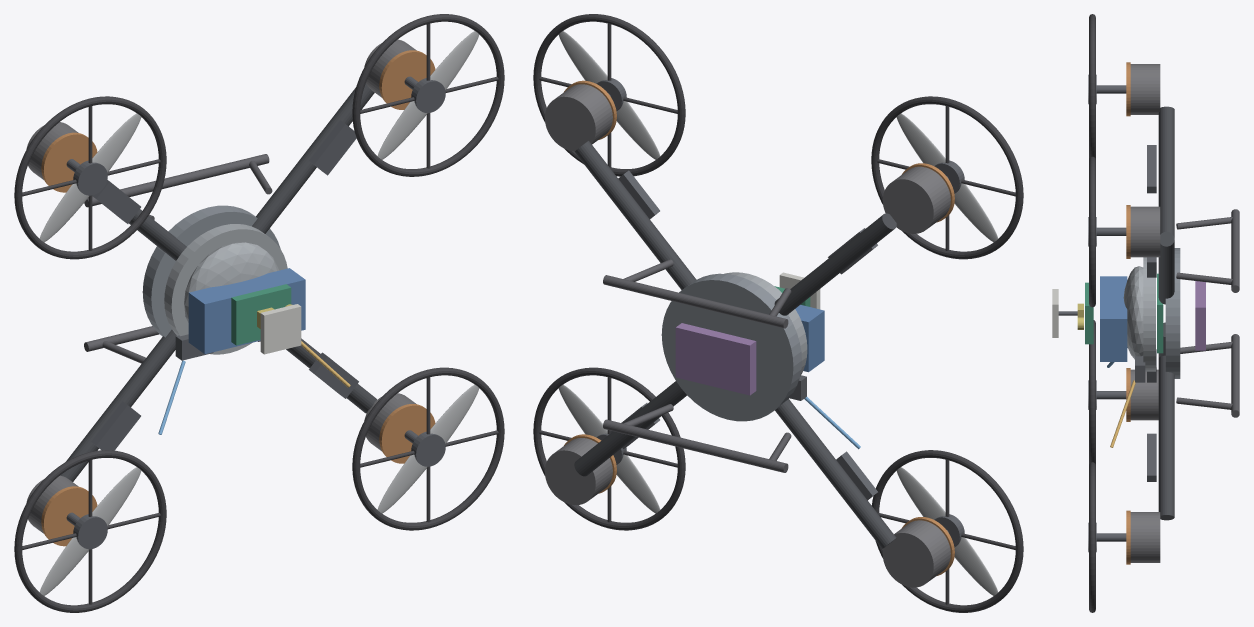
Rendered from quadcopter.glb.
3 renders of one model, left to right at view 1: azimuth 30°, elevation 25°; view 2: azimuth 150°, elevation 25°; view 3: azimuth 270°, elevation 25°, orthographic. The views are drawn at different scales.
Parts seen in each view (by area): view 1: battery[1], frameBody.propellerGuard[4], frameBody.propellerGuard[2], frameBody.propellerGuard[3], frameBody.propellerGuard[1], frameBody.centerBody.upperPlate, frameBody.centerBody.lowerPlate, frameBody.centerBody.dome, frameBody.arm[1], frameBody.arm[3], propeller[3], propeller[1] (+24 smaller); view 2: frameBody.centerBody.lowerPlate, frameBody.payloadMount, frameBody.propellerGuard[2], motor[2], motor[3], motor[1], frameBody.propellerGuard[4], frameBody.arm[3], frameBody.arm[1], frameBody.propellerGuard[3], frameBody.propellerGuard[1], motor[4] (+12 smaller); view 3: frameBody.arm[4], battery[1], frameBody.arm[2], motor[1], motor[4], motor[2], frameBody.centerBody.lowerPlate, frameBody.centerBody.dome, frameBody.centerBody.upperPlate, motor[3], frameBody.arm[1], frameBody.propellerGuard[1] (+22 smaller).
Boxes of the visible parts, x1,y1,x2,y2 form: battery[1]: [188, 268, 305, 353]; frameBody.propellerGuard[4]: [352, 367, 504, 530]; frameBody.propellerGuard[2]: [14, 96, 166, 259]; frameBody.propellerGuard[3]: [14, 450, 166, 612]; frameBody.propellerGuard[1]: [352, 14, 504, 176]; frameBody.centerBody.upperPlate: [164, 224, 287, 354]; frameBody.centerBody.lowerPlate: [142, 205, 280, 337]; frameBody.centerBody.dome: [184, 242, 279, 322]; frameBody.arm[1]: [252, 83, 374, 233]; frameBody.arm[3]: [60, 329, 176, 481]; propeller[3]: [39, 467, 141, 595]; propeller[1]: [377, 31, 479, 159]; frameBody.centerBody.lowerPlate: [661, 273, 801, 421]; frameBody.payloadMount: [675, 323, 756, 395]; frameBody.propellerGuard[2]: [871, 96, 1023, 259]; motor[2]: [882, 166, 950, 233]; motor[3]: [882, 520, 950, 587]; motor[1]: [544, 84, 612, 151]; frameBody.propellerGuard[4]: [533, 367, 685, 530]; frameBody.arm[3]: [775, 399, 896, 548]; frameBody.arm[1]: [574, 141, 696, 289]; frameBody.propellerGuard[3]: [871, 450, 1023, 612]; frameBody.propellerGuard[1]: [533, 14, 685, 176]; motor[4]: [544, 438, 612, 505]; frameBody.arm[4]: [1158, 355, 1174, 520]; battery[1]: [1100, 276, 1127, 361]; frameBody.arm[2]: [1158, 106, 1174, 237]; motor[1]: [1130, 206, 1160, 257]; motor[4]: [1130, 512, 1160, 562]; motor[2]: [1130, 64, 1160, 114]; frameBody.centerBody.lowerPlate: [1165, 248, 1180, 378]; frameBody.centerBody.dome: [1123, 266, 1143, 359]; frameBody.centerBody.upperPlate: [1143, 257, 1155, 371]; motor[3]: [1130, 369, 1158, 420]; frameBody.arm[1]: [1158, 231, 1174, 304]; frameBody.propellerGuard[1]: [1089, 156, 1095, 307].
Bounding box in the file's own units: 0.4606 × 0.4606 × 0.177.
